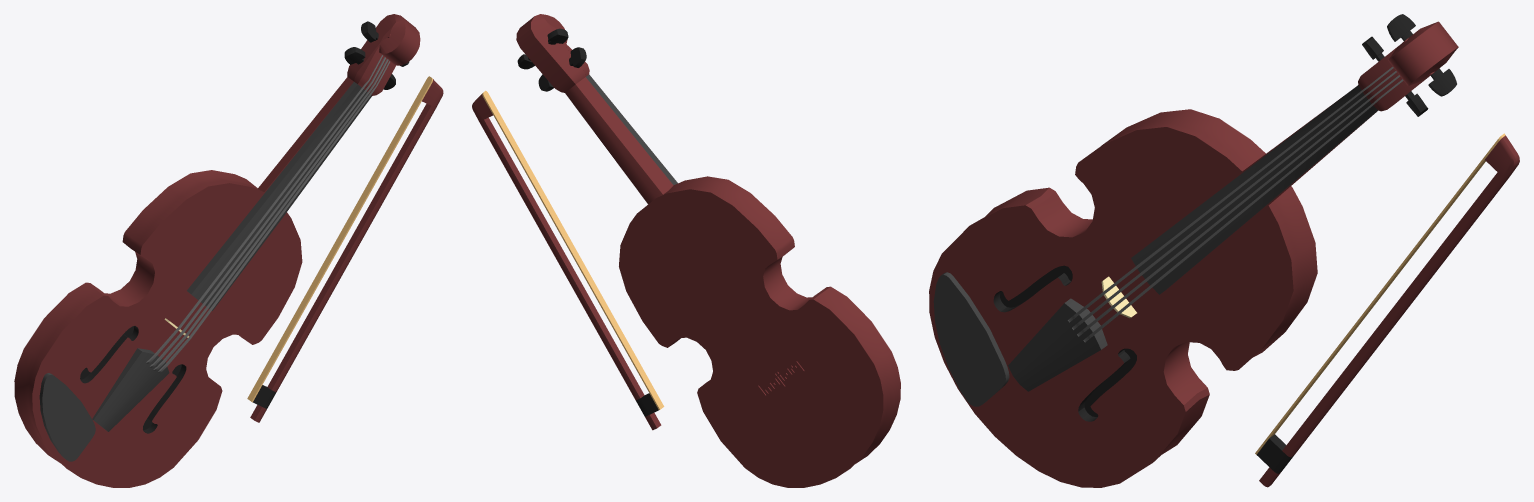
The model's file is violin.glb.
3 views of the same model, side by side, from view 1: azimuth 30°, elevation 25°; view 2: azimuth 150°, elevation 25°; view 3: azimuth 330°, elevation 25° (orthographic). The views are drawn at different scales.
Visible parts, largest first — view 1: Cube.915; view 2: Cube.915; view 3: Cube.915.
Boxes of the visible parts, box(x1,y1,x2,y2) form: Cube.915: box(14, 14, 443, 487); Cube.915: box(472, 14, 900, 487); Cube.915: box(929, 14, 1519, 487).
Size of the model in its own units: 2.35 by 2.14 by 0.2812.
Materials: 1 (1 with a texture image).
